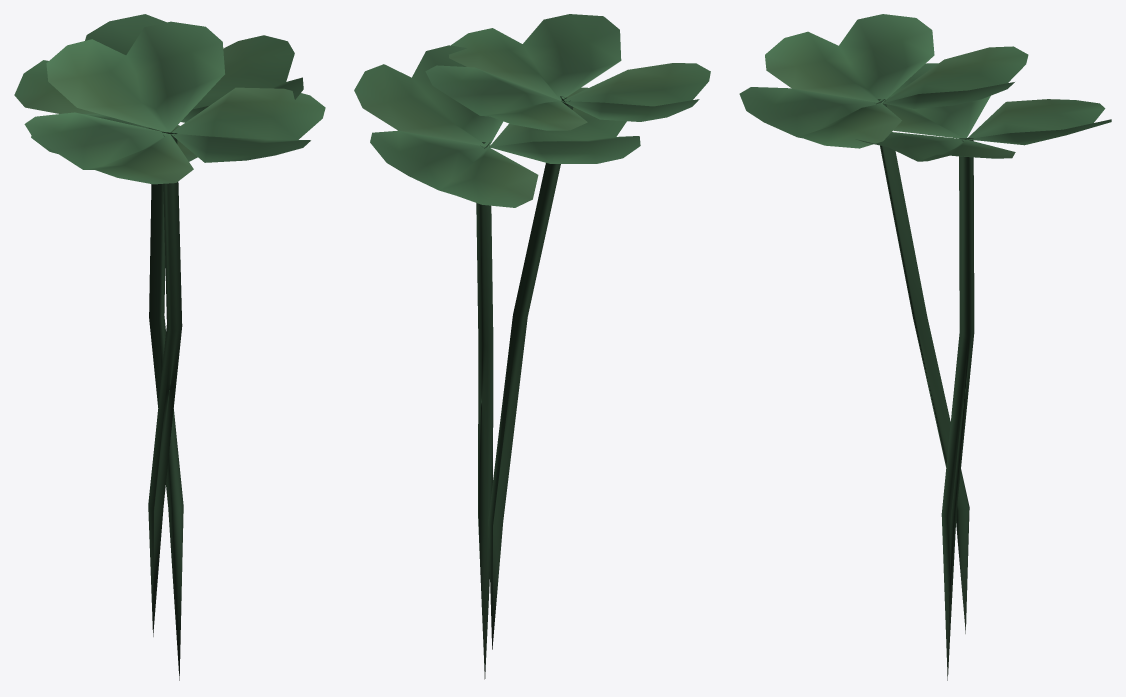
File: plants-leafy-plants-clover_v7.glb
The picture shows the model from 3 angles, left to right: view 1: azimuth 30°, elevation 25°; view 2: azimuth 150°, elevation 25°; view 3: azimuth 270°, elevation 25°; orthographic projection. The views are drawn at different scales.
Parts seen in each view (by area): view 1: Clover_v7; view 2: Clover_v7; view 3: Clover_v7.
Part boxes in pixels (x1,y1,x2,y2): Clover_v7: (14, 14, 325, 680); Clover_v7: (354, 14, 710, 679); Clover_v7: (739, 14, 1111, 680).
Size of the model in its own units: 0.0734 by 0.15 by 0.0837.
